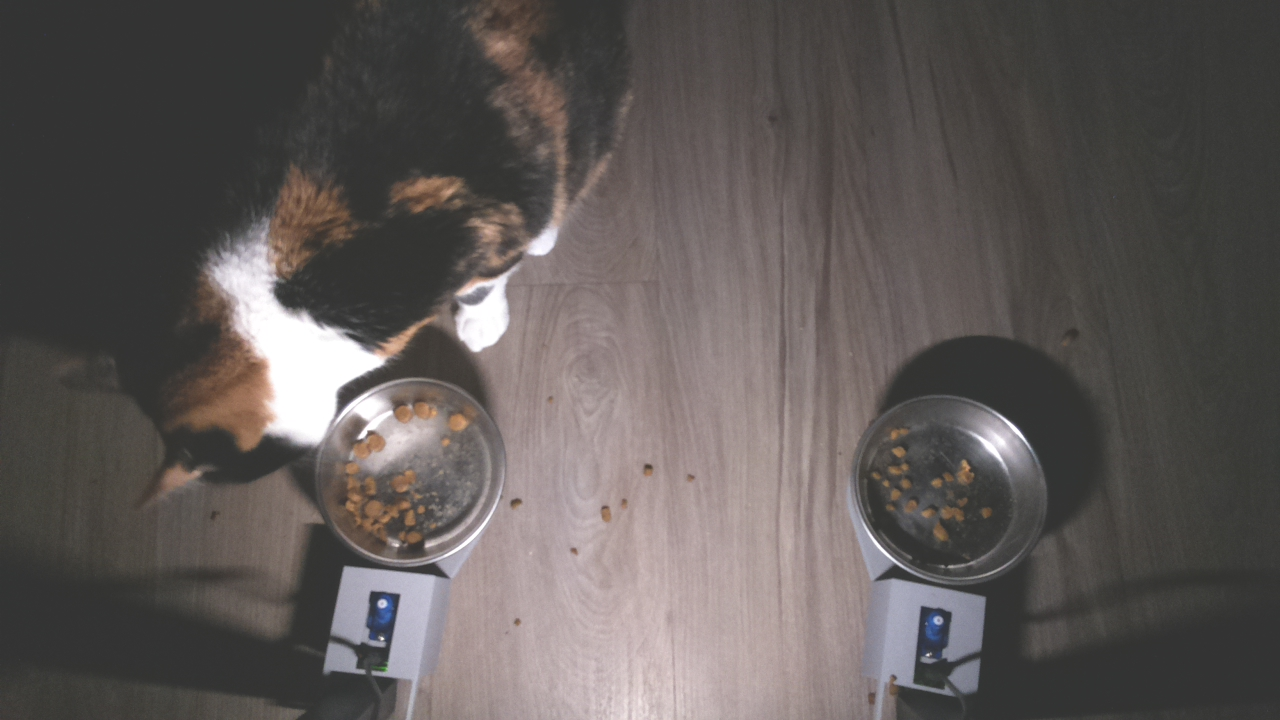bella: (79, 278, 315, 515)
open_bowl: (842, 383, 1051, 587), (309, 375, 513, 570)
